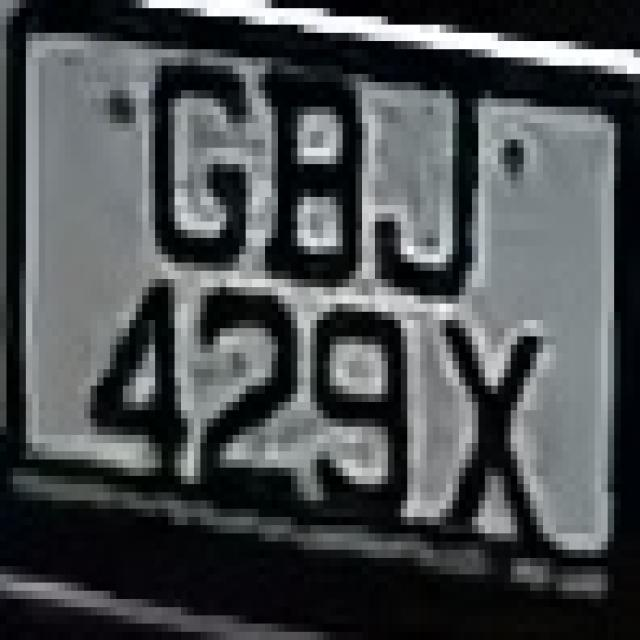2: (187, 271, 317, 525)
4: (84, 254, 194, 509)
9: (310, 287, 433, 517)
B: (265, 58, 381, 304)
G: (129, 25, 252, 279)
J: (382, 49, 492, 304)
X: (433, 279, 563, 574)
